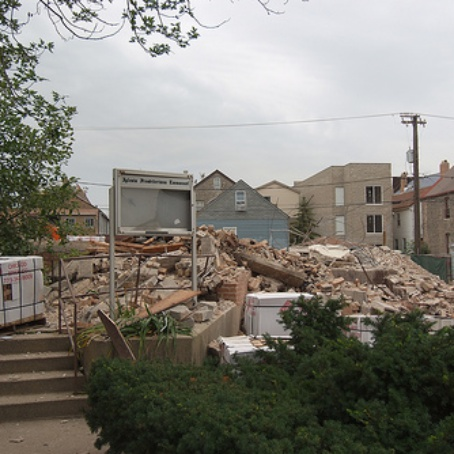building: (175, 169, 293, 244), (301, 165, 398, 249), (402, 165, 454, 249)
debris: (119, 237, 439, 358)
power pole: (397, 106, 431, 238)
sign: (114, 169, 202, 241)
sky: (65, 1, 454, 174)
vegetation: (84, 313, 454, 454)
